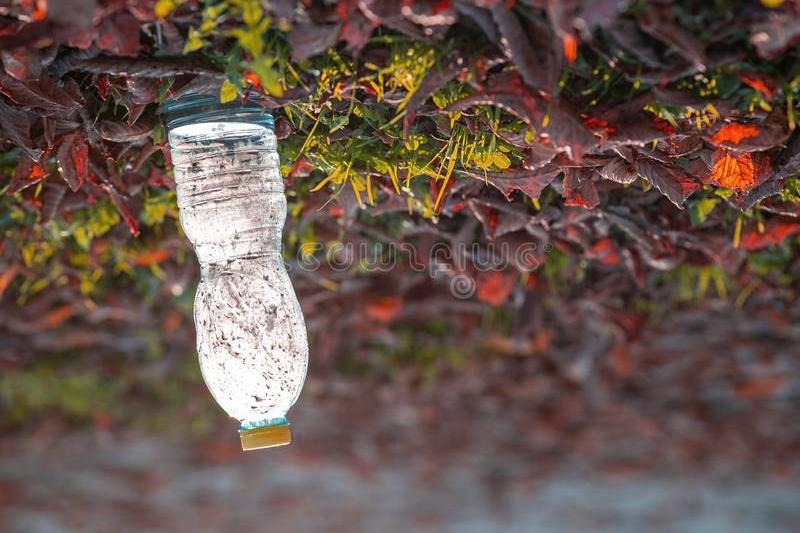Plastic: (167, 53, 309, 486)
